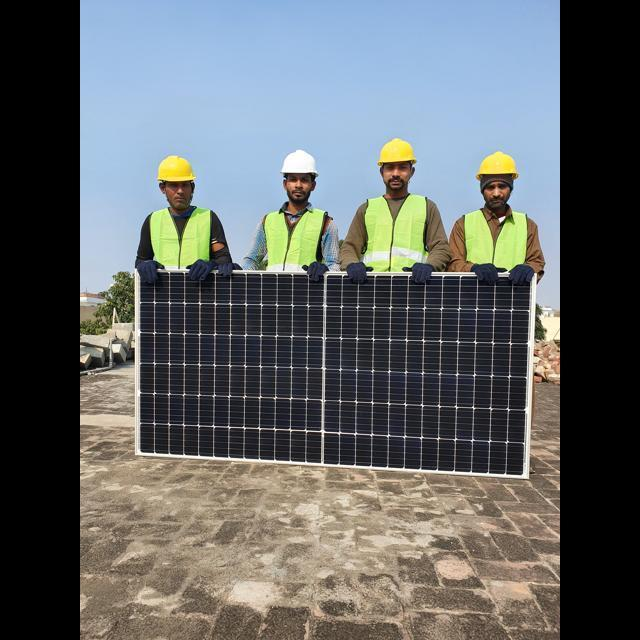Capacete: (476, 151, 518, 179), (378, 138, 416, 165), (157, 155, 195, 181), (281, 150, 317, 175)
Colete: (362, 194, 427, 271), (263, 208, 324, 270), (464, 210, 527, 269), (150, 208, 210, 267)
